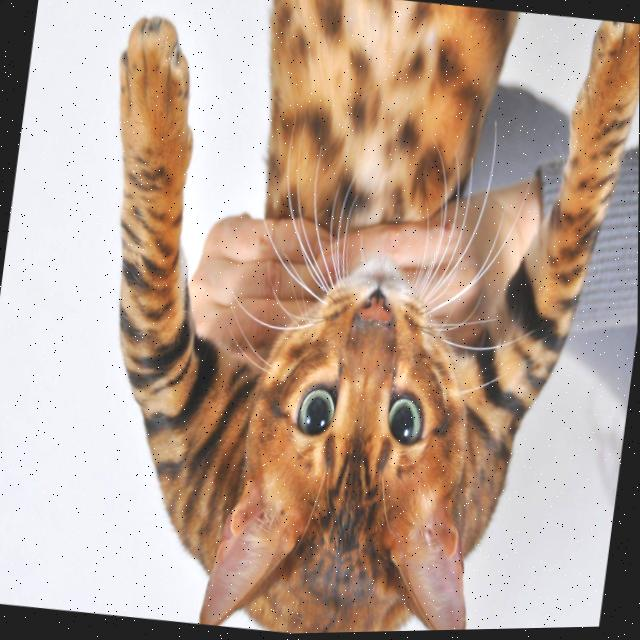Toyger: (45, 0, 640, 639)
